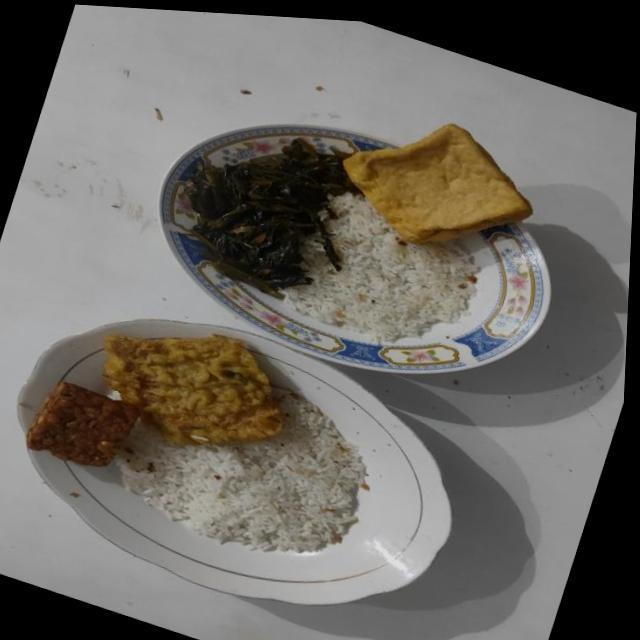nasi_putih: (114, 393, 364, 554), (284, 194, 478, 343)
tahu_goreng: (342, 124, 532, 244)
tempe_goreng: (26, 381, 139, 466)
tumis_kangkung: (184, 138, 362, 298)
